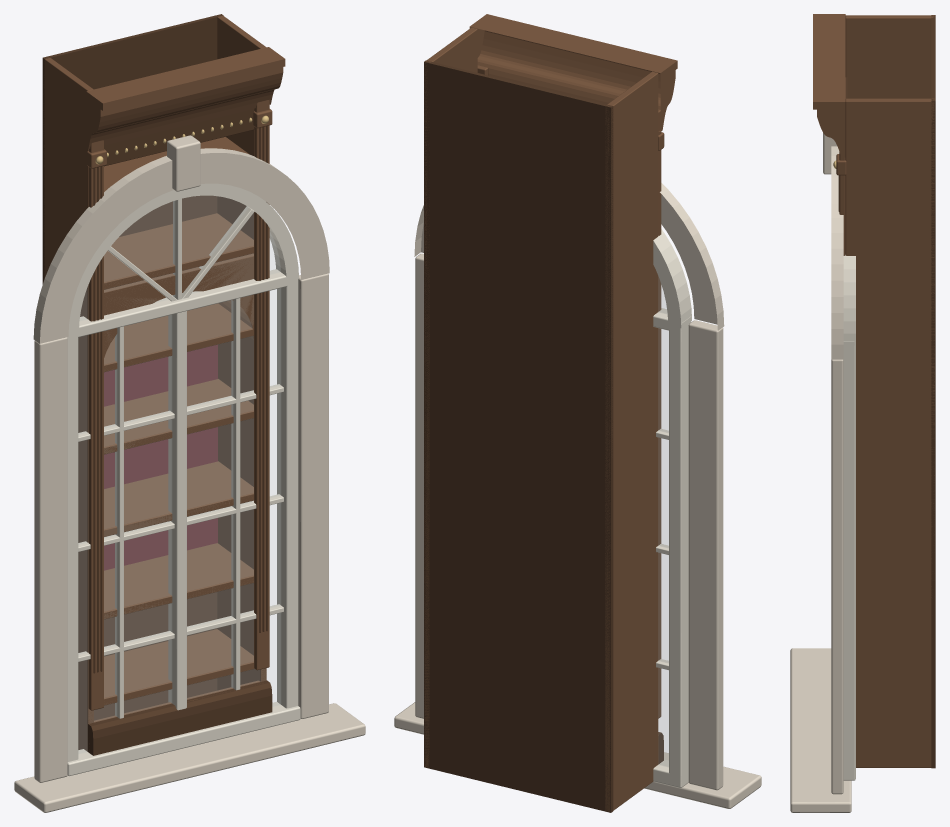
File: architecture.glb
The picture shows the model from 3 angles, left to right: view 1: azimuth 30°, elevation 25°; view 2: azimuth 150°, elevation 25°; view 3: azimuth 270°, elevation 25°; orthographic projection. The views are drawn at different scales.
Parts seen in each view (by area): view 1: Bookcase_carcass, Window_glass, Window_surround, Window_frame, BookcaseNiche_carcass; view 2: Bookcase_carcass, Window_surround, Window_frame, Window_glass; view 3: Bookcase_carcass, Window_surround, Window_frame.
Part boxes in pixels (left/top/right/bottom): Bookcase_carcass: left=42, top=14, right=285, bottom=755; Window_glass: left=78, top=196, right=280, bottom=753; Window_surround: left=14, top=135, right=365, bottom=812; Window_frame: left=67, top=183, right=300, bottom=776; BookcaseNiche_carcass: left=104, top=253, right=253, bottom=570; Bookcase_carcass: left=424, top=14, right=677, bottom=812; Window_surround: left=394, top=183, right=761, bottom=808; Window_frame: left=653, top=229, right=691, bottom=787; Window_glass: left=658, top=277, right=668, bottom=766; Bookcase_carcass: left=813, top=14, right=935, bottom=768; Window_surround: left=790, top=133, right=851, bottom=812; Window_frame: left=843, top=255, right=855, bottom=780.
Size of the model in its own units: 1.8 by 3.66 by 0.71.
